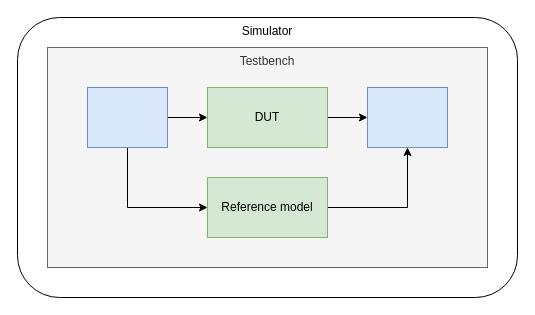
This 535x315 diagram has some shape labels left out. Here are the shapes that lost their labels. From the top down, the box of each, then its label:
(86, 86, 168, 148): Stimuli
(366, 86, 448, 148): Checker
